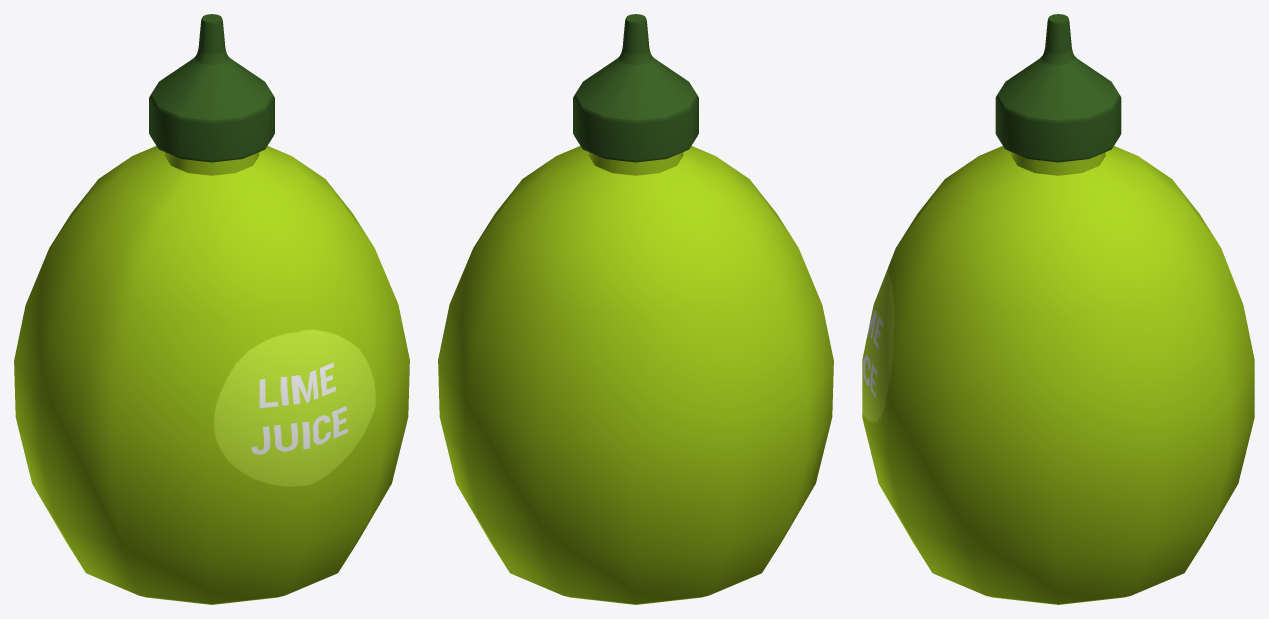
File: Bottle_Lime_squirt.fbx
The picture shows the model from 3 angles, left to right: view 1: azimuth 30°, elevation 25°; view 2: azimuth 150°, elevation 25°; view 3: azimuth 270°, elevation 25°; orthographic projection.
Parts seen in each view (by area): view 1: pSphere2; view 2: pSphere2; view 3: pSphere2.
Boxes of the visible parts, x1,y1,x2,y2 form: pSphere2: [14, 14, 409, 604]; pSphere2: [438, 14, 833, 604]; pSphere2: [862, 14, 1254, 604].
Bounding box in the file's own units: 1.9 × 2.81 × 1.88.
